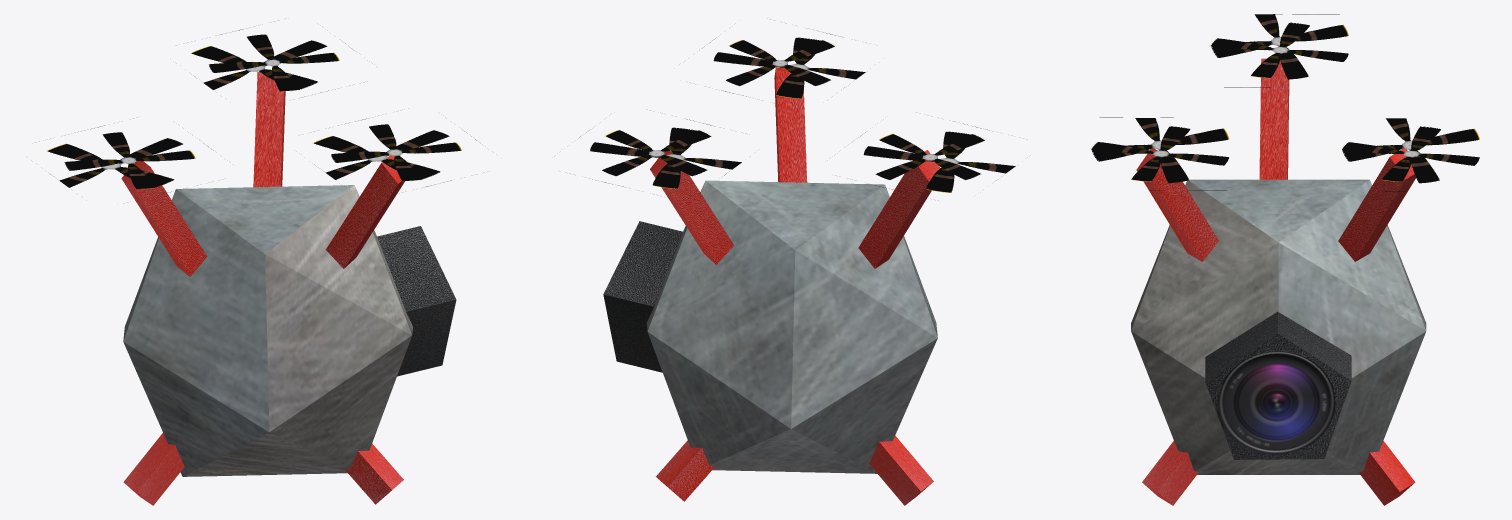
File: Drone.fbx
3 renders of one model, left to right at view 1: azimuth 30°, elevation 25°; view 2: azimuth 150°, elevation 25°; view 3: azimuth 270°, elevation 25°, orthographic. The views are drawn at different scales.
Parts seen in each view (by area): view 1: Body, Prop0, Prop1, Prop2; view 2: Body, Prop2, Prop0, Prop1; view 3: Body, Prop1, Prop0, Prop2.
Boxes of the visible parts, box(x1,y1,x2,y2) form: Body: box(121, 72, 456, 505); Prop0: box(313, 118, 476, 186); Prop1: box(47, 125, 213, 195); Prop2: box(191, 29, 351, 97); Body: box(603, 67, 940, 505); Prop2: box(579, 119, 741, 188); Prop0: box(704, 30, 865, 98); Prop1: box(860, 121, 1015, 192); Body: box(1131, 58, 1426, 505); Prop1: box(1210, 14, 1348, 87); Prop0: box(1090, 117, 1229, 190); Prop2: box(1342, 118, 1479, 191).
Size of the model in its own units: 247 by 224 by 244.
